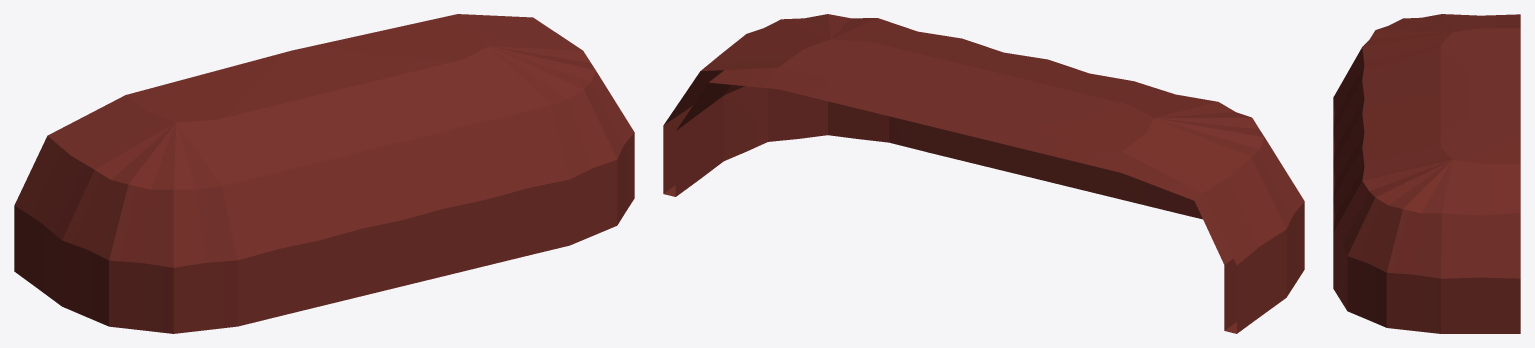
The model's file is SM_Bld_Awning_04.obj.
3 views of the same model, side by side, from view 1: azimuth 30°, elevation 25°; view 2: azimuth 150°, elevation 25°; view 3: azimuth 270°, elevation 25° (orthographic). The views are drawn at different scales.
Visible parts, largest first — view 1: SM_Bld_Awning_04_0; view 2: SM_Bld_Awning_04_0; view 3: SM_Bld_Awning_04_0.
Part boxes in pixels (x1,y1,x2,y2): SM_Bld_Awning_04_0: (14,14,634,333); SM_Bld_Awning_04_0: (663,14,1304,333); SM_Bld_Awning_04_0: (1333,14,1520,333).
Bounding box in the file's own units: 2.4 × 0.6327 × 0.8396.
1 material, 1 textured.
